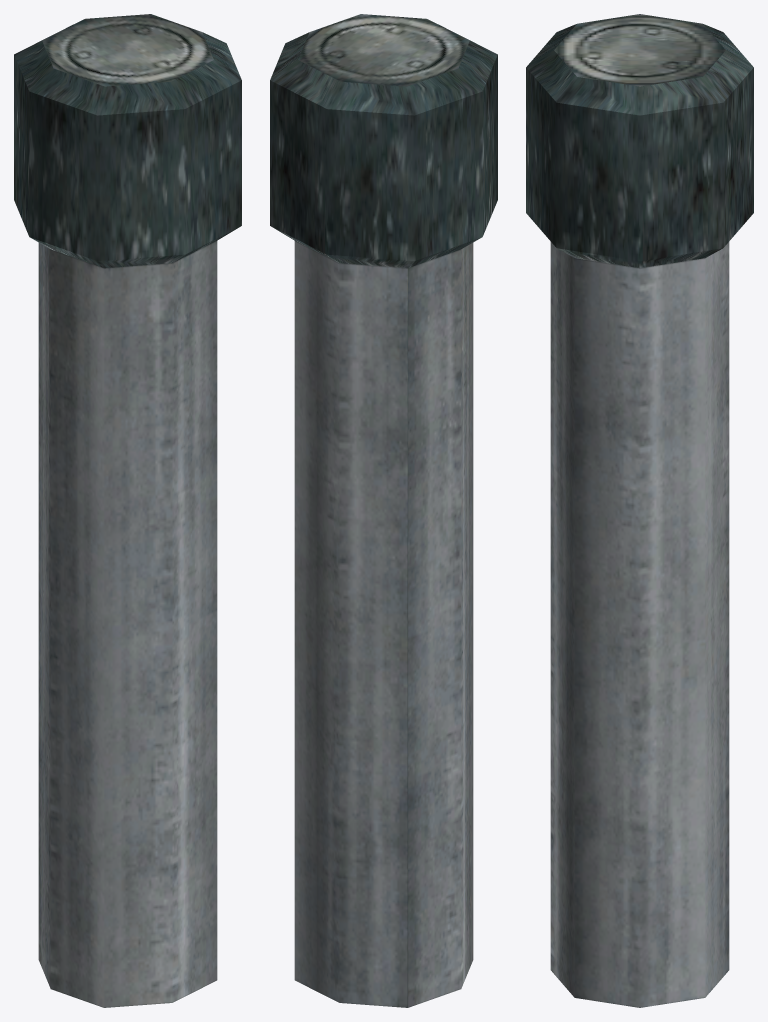
The model's file is bunker_mine_support_piston_s01_l1.fbx.
3 views of the same model, side by side, from view 1: azimuth 30°, elevation 25°; view 2: azimuth 150°, elevation 25°; view 3: azimuth 270°, elevation 25° (orthographic).
Visible parts, largest first — view 1: mesh_node; view 2: mesh_node; view 3: mesh_node.
Part boxes in pixels (x1,y1,x2,y2): mesh_node: [14, 14, 241, 1007]; mesh_node: [270, 14, 497, 1007]; mesh_node: [526, 14, 753, 1007].
Size of the model in its own units: 0.5425 by 2.42 by 0.5425.
1 material, 1 textured.
